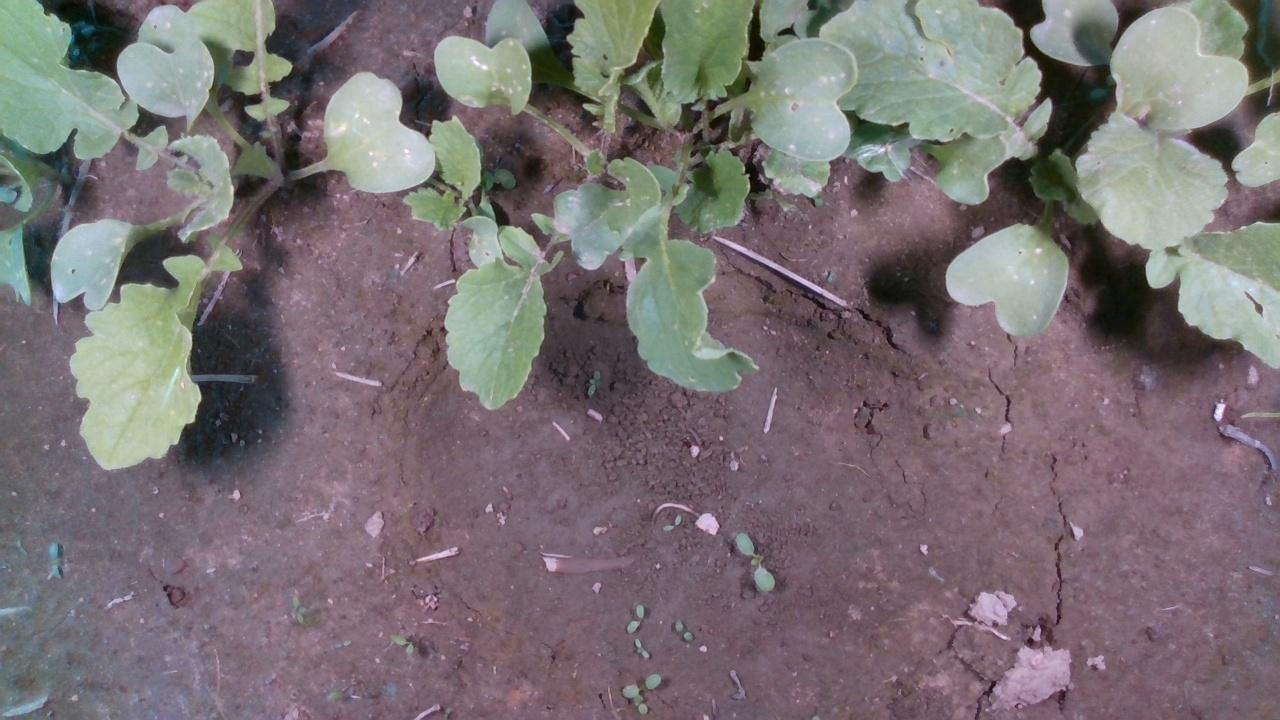weed: (733, 531, 774, 592), (47, 539, 62, 579), (624, 602, 642, 633), (388, 632, 413, 654), (288, 593, 304, 624), (672, 619, 693, 641), (586, 366, 600, 397), (661, 513, 681, 530), (634, 637, 649, 659)
